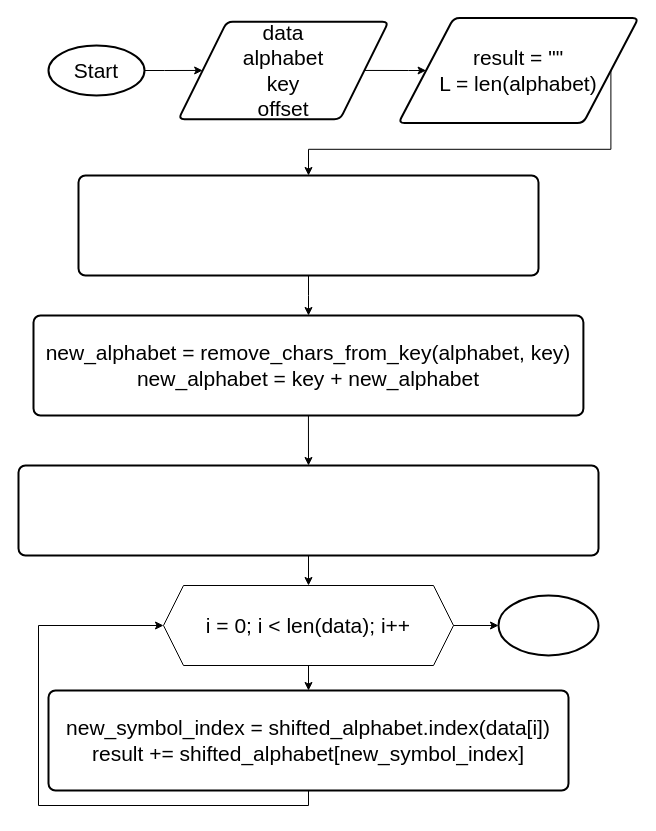
This 656x831 diagram has some shape labels left out. The shapes that lost their labels are listed below. From the top down, each one's centre as x and y in pixels, then its label:
[308,225]: key = remove_duplicate_chars(key)
[308,510]: shifted_alphabet = new_alphabet[L - offset : L] + new_alphabet[0 : L - offset]
[548,625]: End
